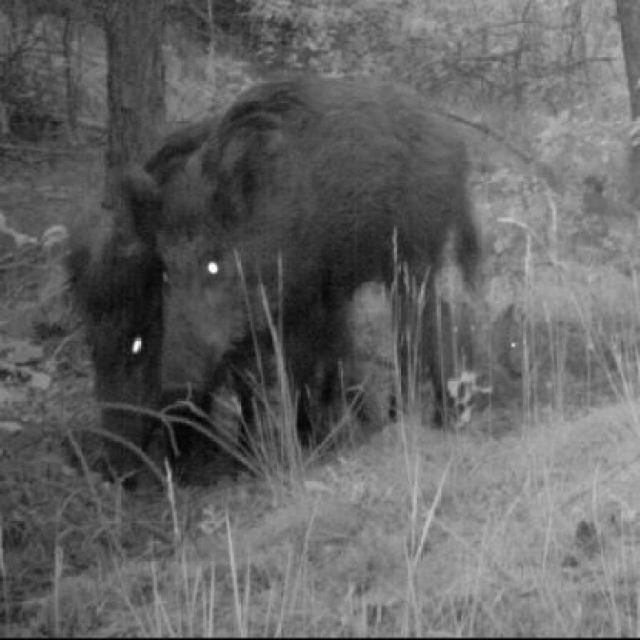WildBoar: (160, 108, 492, 430), (32, 217, 185, 489)
